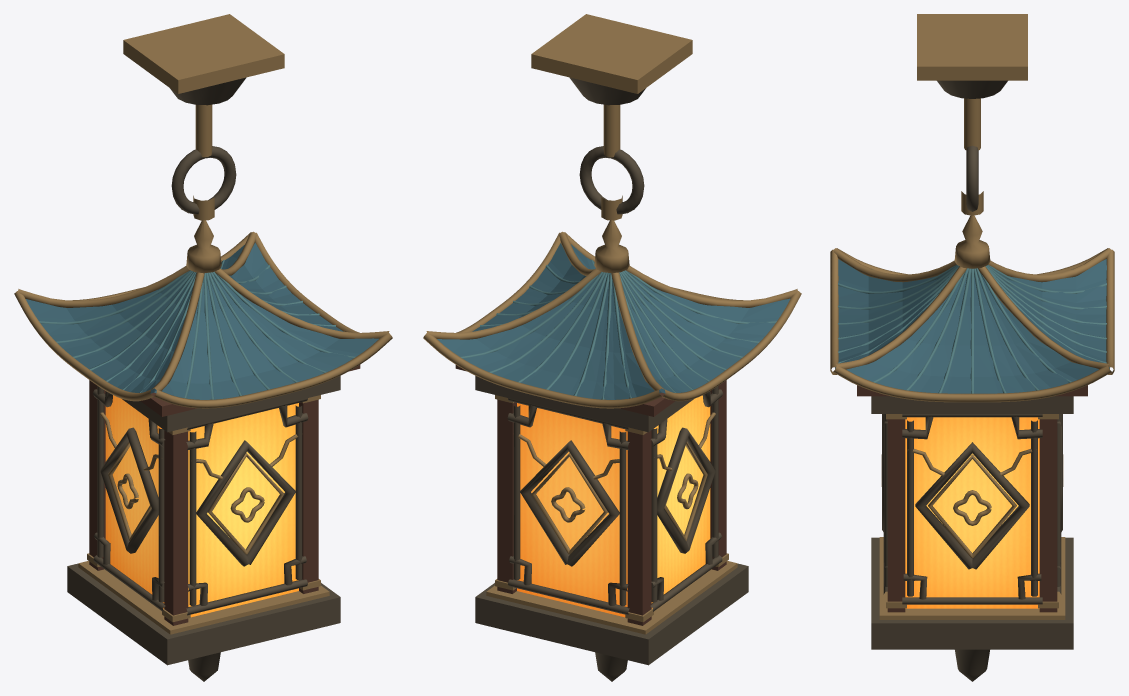
The picture shows the model from 3 angles, left to right: view 1: azimuth 30°, elevation 25°; view 2: azimuth 150°, elevation 25°; view 3: azimuth 270°, elevation 25°; orthographic projection.
Parts seen in each view (by area): view 1: E03_bronze, E03_gold, E03_blue, E03_paper, E03_wood, E03_teal; view 2: E03_bronze, E03_gold, E03_blue, E03_paper, E03_wood, E03_teal; view 3: E03_gold, E03_blue, E03_bronze, E03_paper, E03_wood, E03_teal.
Boxes of the visible parts, left/top/right/bottom form: E03_bronze: left=67, top=77, right=340, bottom=681; E03_gold: left=14, top=14, right=392, bottom=634; E03_blue: left=25, top=242, right=378, bottom=399; E03_paper: left=105, top=395, right=298, bottom=617; E03_wood: left=89, top=365, right=360, bottom=625; E03_teal: left=39, top=260, right=355, bottom=399; E03_bronze: left=475, top=77, right=748, bottom=681; E03_gold: left=423, top=14, right=801, bottom=634; E03_blue: left=437, top=243, right=790, bottom=399; E03_paper: left=517, top=395, right=710, bottom=617; E03_wood: left=455, top=365, right=726, bottom=625; E03_teal: left=460, top=260, right=776, bottom=399; E03_gold: left=830, top=14, right=1114, bottom=619; E03_blue: left=835, top=259, right=1109, bottom=393; E03_bronze: left=871, top=80, right=1073, bottom=681; E03_paper: left=905, top=417, right=1039, bottom=608; E03_wood: left=857, top=385, right=1087, bottom=612; E03_teal: left=838, top=265, right=1106, bottom=393.
Size of the model in its own units: 0.6398 by 1.59 by 0.6398.
Materials: 6 (1 with a texture image).
